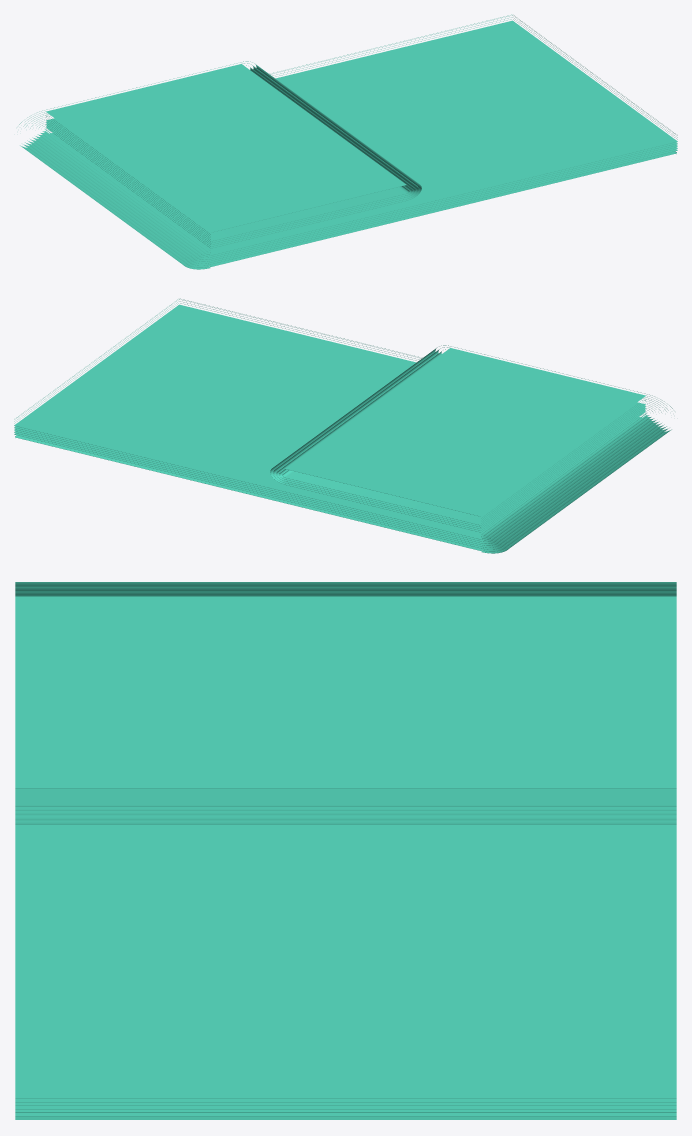
3 renders of one model, top to bottom at view 1: azimuth 30°, elevation 25°; view 2: azimuth 150°, elevation 25°; view 3: azimuth 270°, elevation 25°, orthographic. The views are drawn at different scales.
Parts seen in each view (by area): view 1: rouska; view 2: rouska; view 3: rouska.
Boxes of the visible parts, box(x1,y1,x2,y2) form: rouska: box(19, 14, 677, 269); rouska: box(14, 298, 672, 553); rouska: box(15, 582, 676, 1119).
Bounding box in the file's own units: 1.65 × 0.1178 × 0.95.
